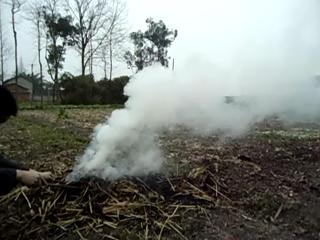yanwu: (74, 47, 272, 173)
